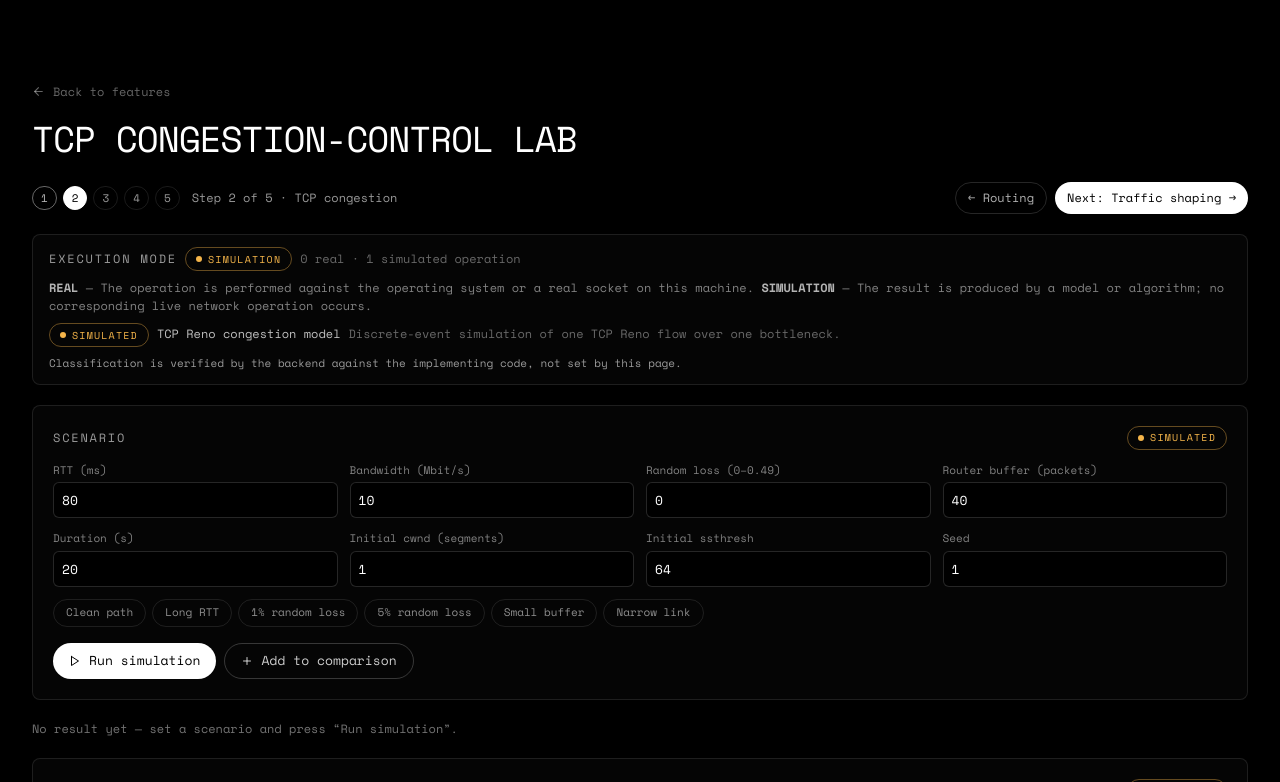
Scenario: TCP congestion lab › compares collected scenarios and flags the comparison stale when the list changes
This screenshot has width=1280, height=782.
Step 1. Click the button "Add to comparison" → (319, 660), box [224, 642, 414, 678]
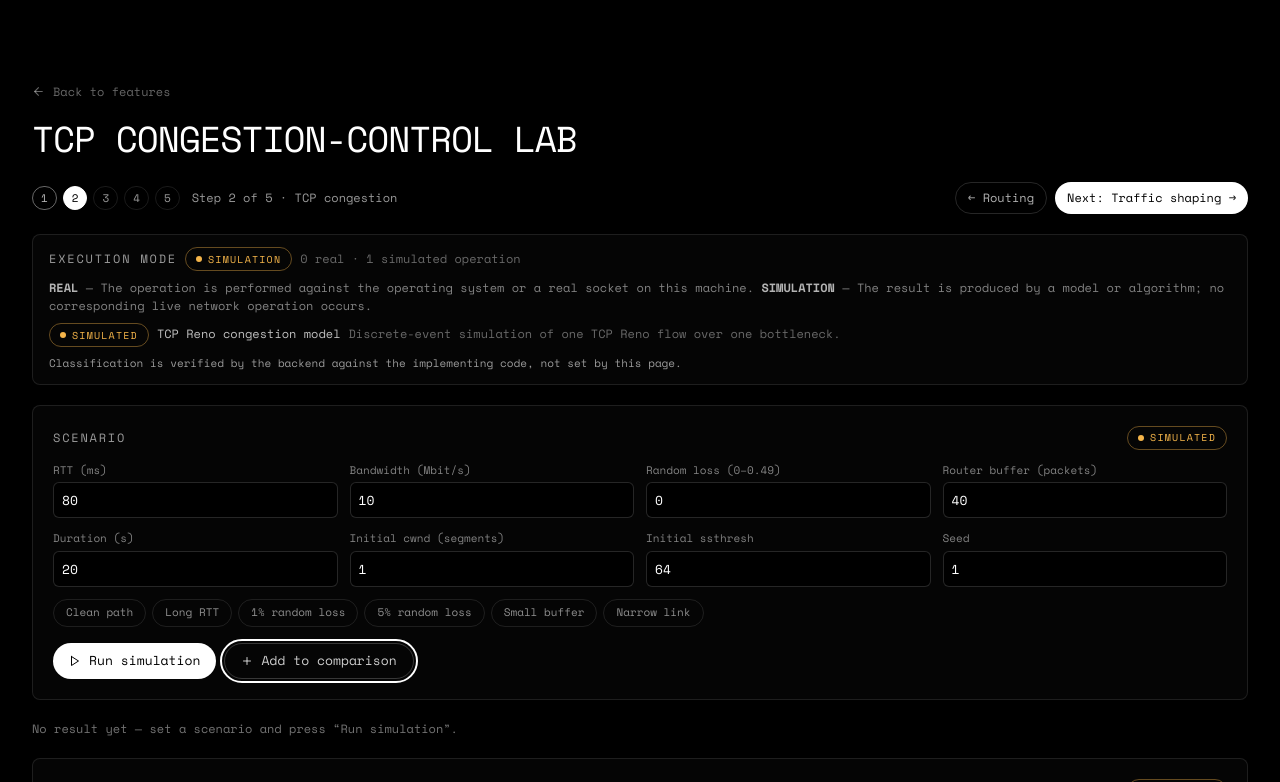
Step 2. Click the button "5% random loss" → (425, 612), box [364, 598, 485, 626]
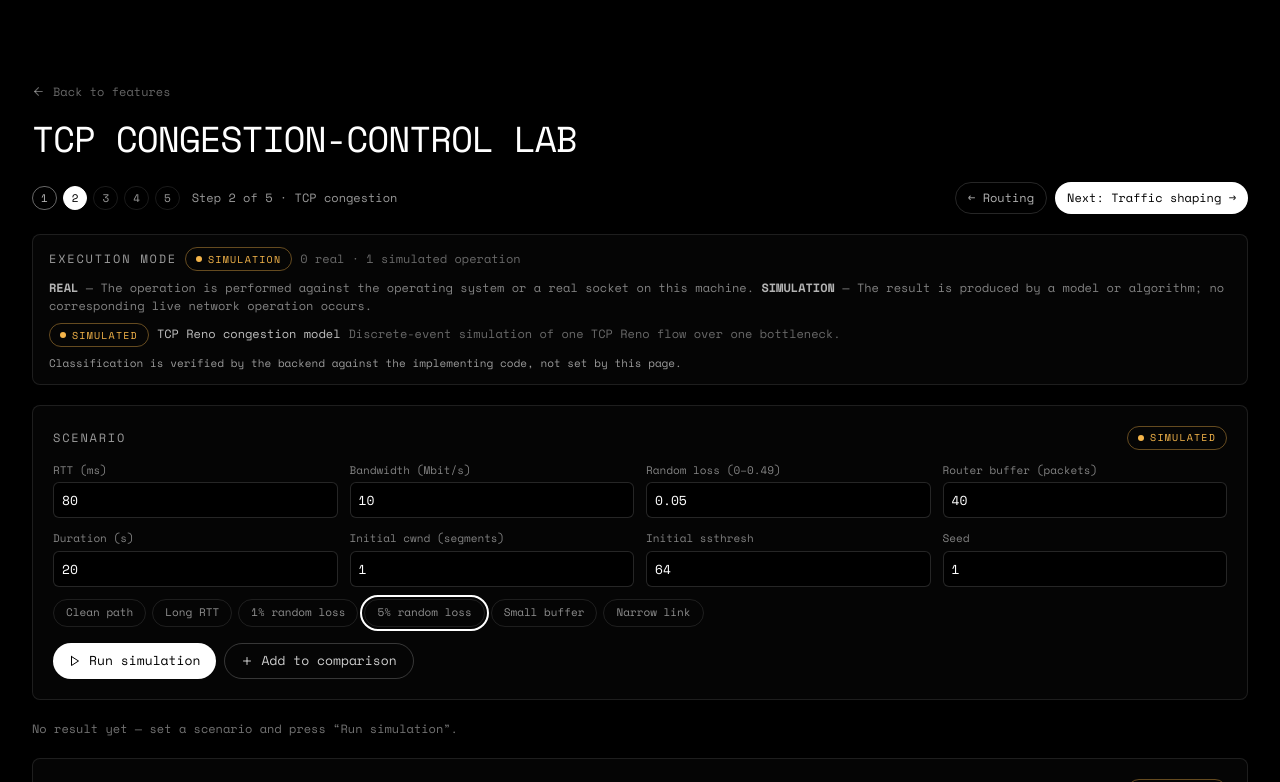
Step 3. Click the button "Add to comparison" → (319, 660), box [224, 642, 414, 678]
(page scrolled)
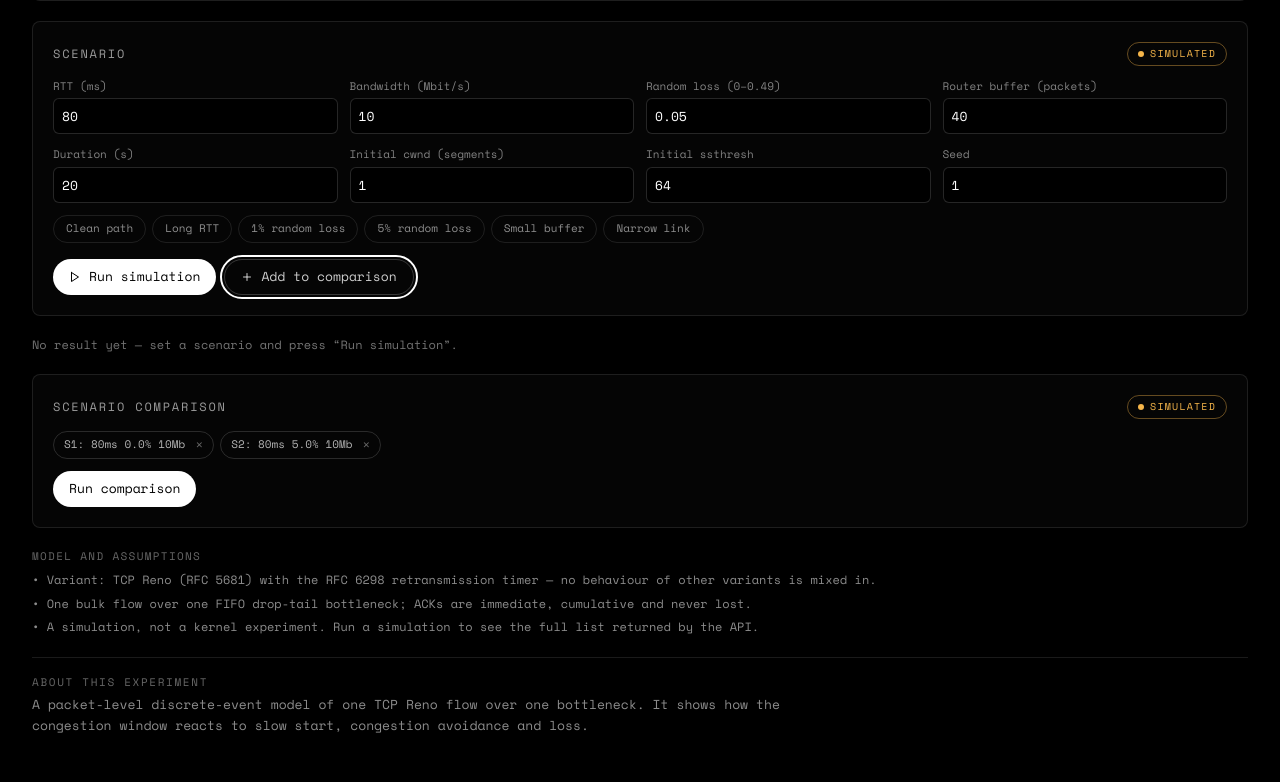
Step 4. Click the button "Run comparison" → (125, 488), box [53, 470, 196, 506]
(page scrolled)
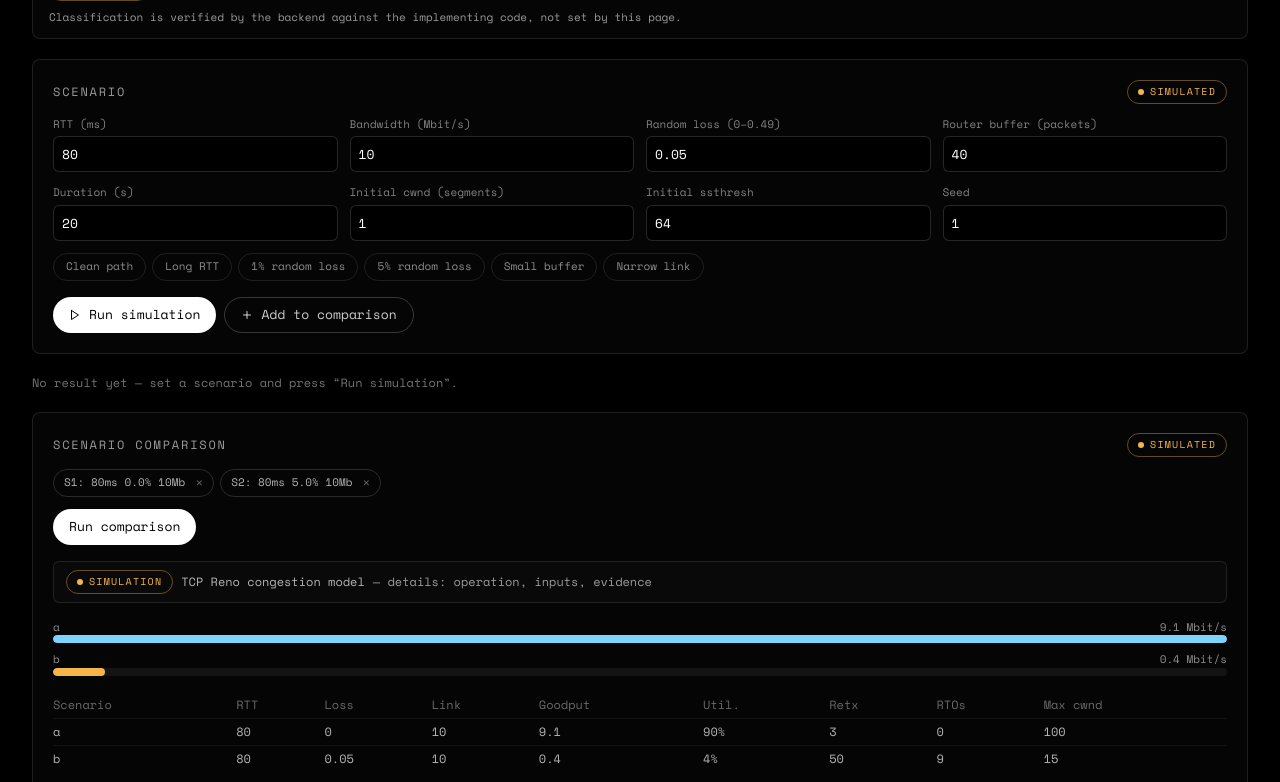
Step 5. Click the button named "Remove " → (199, 482), box [189, 472, 209, 492]
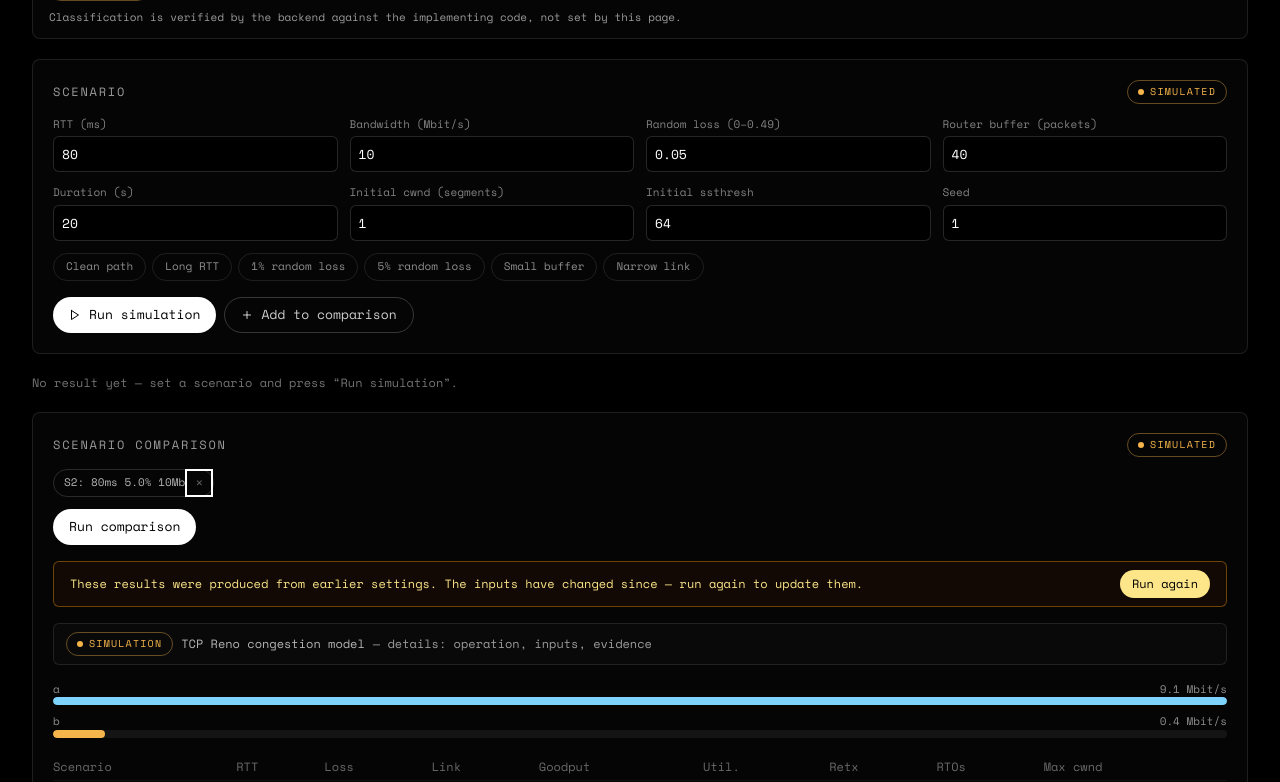
Expected: the message with test id "stale" is shown, [53, 560, 1227, 606]
